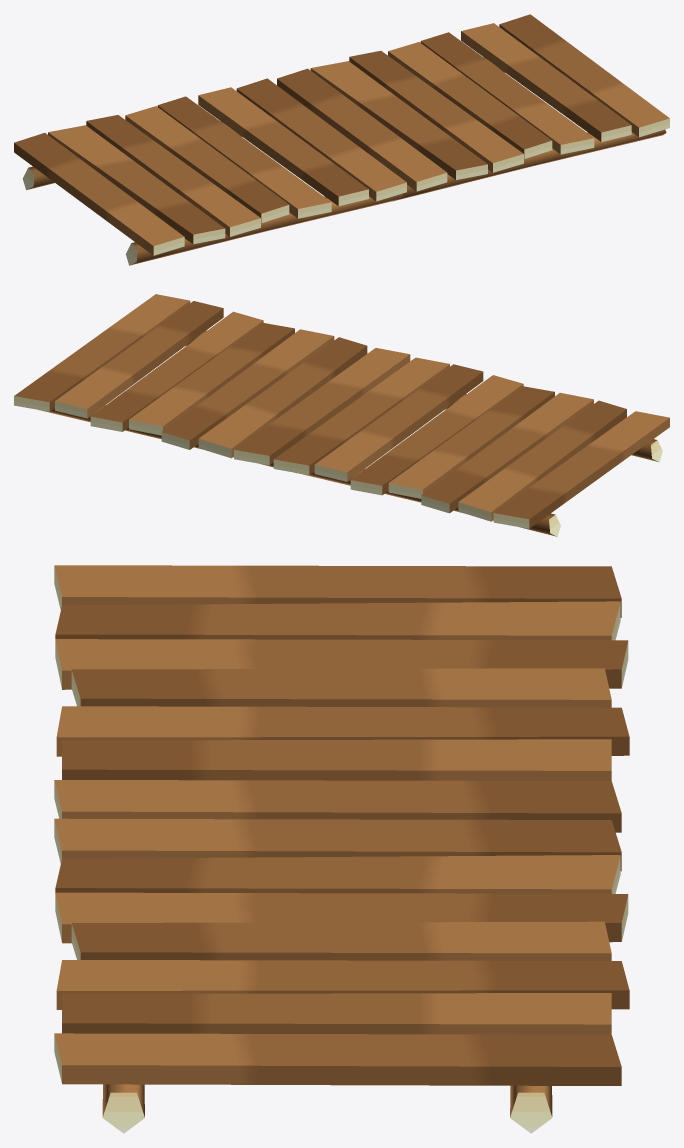
Rendered from bridge.fbx.
The picture shows the model from 3 angles, top to bottom: view 1: azimuth 30°, elevation 25°; view 2: azimuth 150°, elevation 25°; view 3: azimuth 270°, elevation 25°; orthographic projection. The views are drawn at different scales.
Visible parts, largest first — view 1: bridge; view 2: bridge; view 3: bridge.
Boxes of the visible parts, x1,y1,x2,y2 form: bridge: [14, 14, 669, 265]; bridge: [14, 294, 669, 536]; bridge: [54, 565, 629, 1133].
Bounding box in the file's own units: 73.61 × 4.37 × 34.74.
